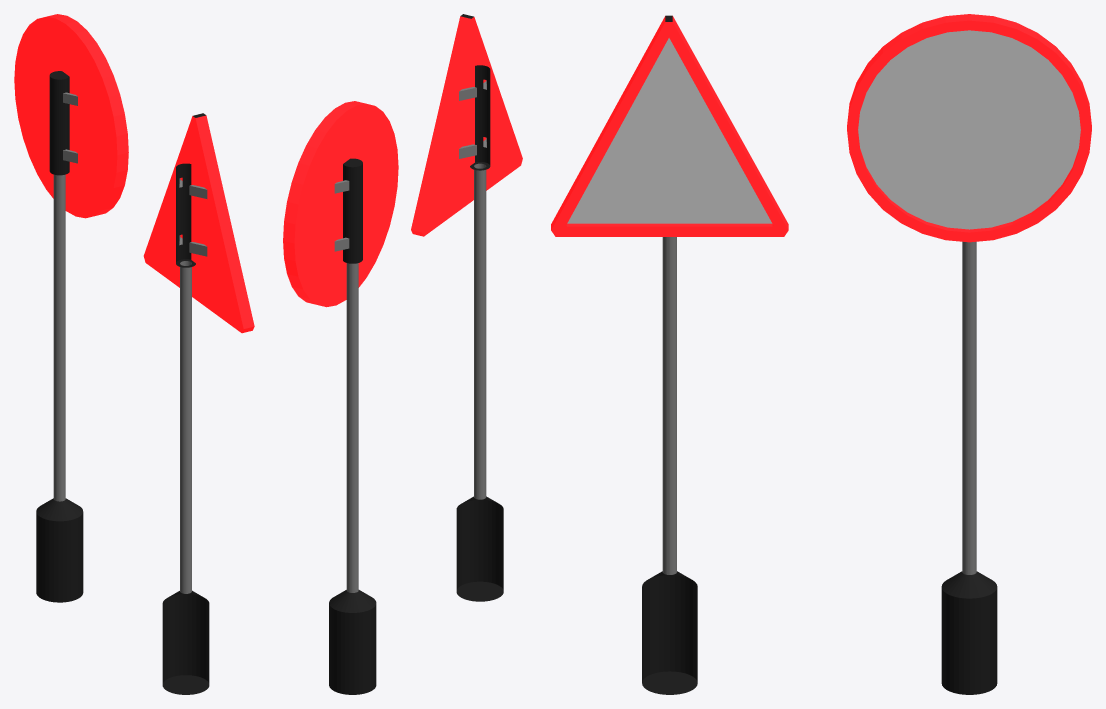
The model's file is roadsigns (1).fbx.
3 renders of one model, left to right at view 1: azimuth 30°, elevation 25°; view 2: azimuth 150°, elevation 25°; view 3: azimuth 270°, elevation 25°, orthographic. The views are drawn at different scales.
Parts seen in each view (by area): view 1: CIRCLE, TRISNG; view 2: CIRCLE, TRISNG; view 3: CIRCLE, TRISNG.
Part boxes in pixels (<box>): CIRCLE: <box>14,14,128,602</box>; TRISNG: <box>143,113,254,694</box>; CIRCLE: <box>283,101,398,694</box>; TRISNG: <box>411,14,522,601</box>; CIRCLE: <box>847,14,1091,694</box>; TRISNG: <box>551,15,788,694</box>.
Bounding box in the file's own units: 45.57 × 607 × 442.
